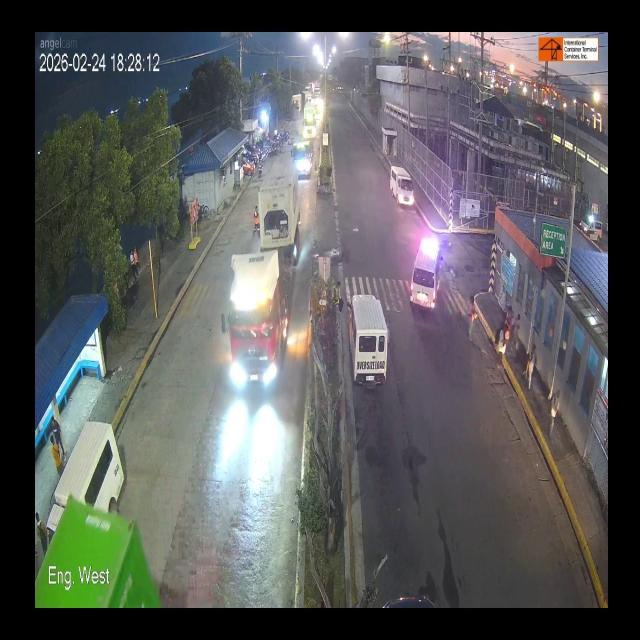car: (400, 223, 450, 323), (346, 294, 384, 389), (377, 164, 417, 214)
truck: (228, 153, 308, 405)
